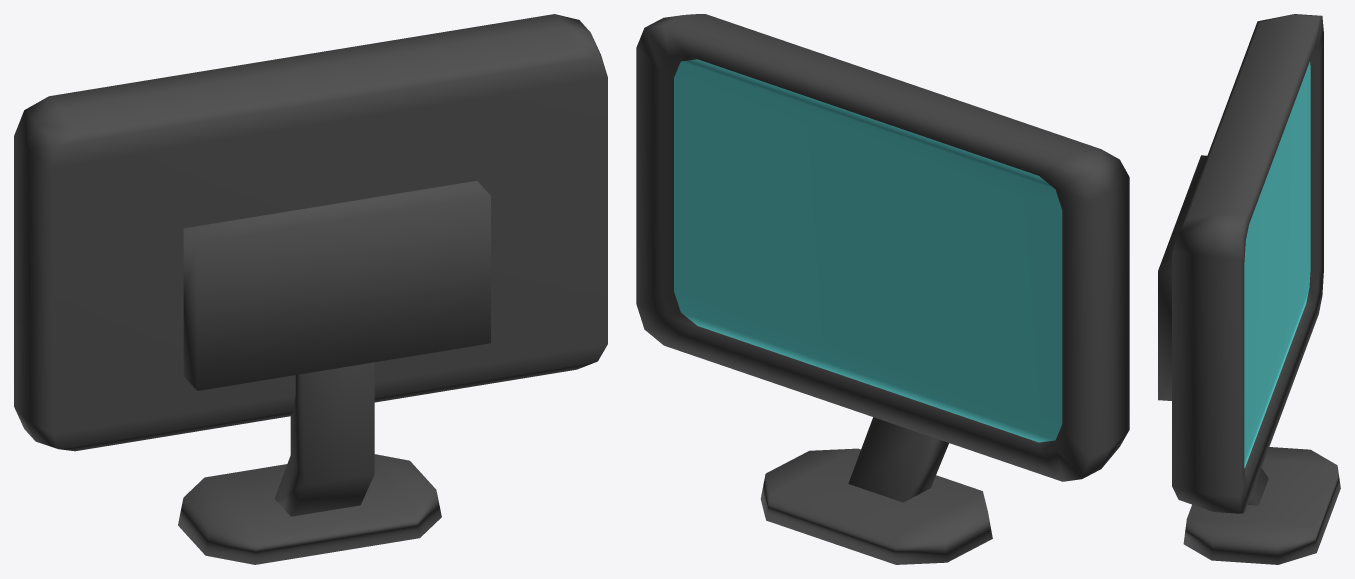
3 renders of one model, left to right at view 1: azimuth 30°, elevation 25°; view 2: azimuth 150°, elevation 25°; view 3: azimuth 270°, elevation 25°, orthographic. The views are drawn at different scales.
Visible parts, largest first — view 1: mesh_PC_01; view 2: mesh_PC_01; view 3: mesh_PC_01.
Part boxes in pixels (x1,y1,x2,y2): mesh_PC_01: (14,14,607,564); mesh_PC_01: (636,14,1129,564); mesh_PC_01: (1158,14,1340,564).
Size of the model in its own units: 14.85 by 12.2 by 5.03.
